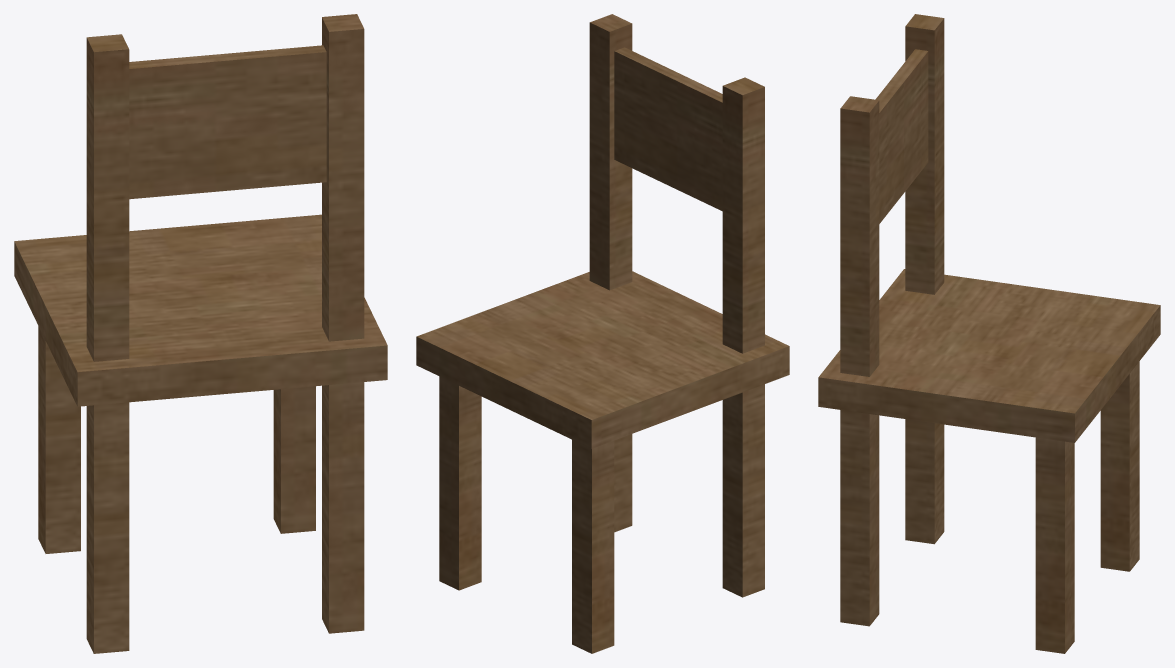
The picture shows the model from 3 angles, left to right: view 1: azimuth 30°, elevation 25°; view 2: azimuth 150°, elevation 25°; view 3: azimuth 270°, elevation 25°; orthographic projection. The views are drawn at different scales.
Parts seen in each view (by area): view 1: Cube194_Wood_05_0; view 2: Cube194_Wood_05_0; view 3: Cube194_Wood_05_0.
Part boxes in pixels (<box>): Cube194_Wood_05_0: <box>14,14,387,653</box>; Cube194_Wood_05_0: <box>416,14,789,653</box>; Cube194_Wood_05_0: <box>818,14,1160,653</box>.
Bounding box in the file's own units: 0.6298 × 1.04 × 0.6298.
1 material, 1 textured.
